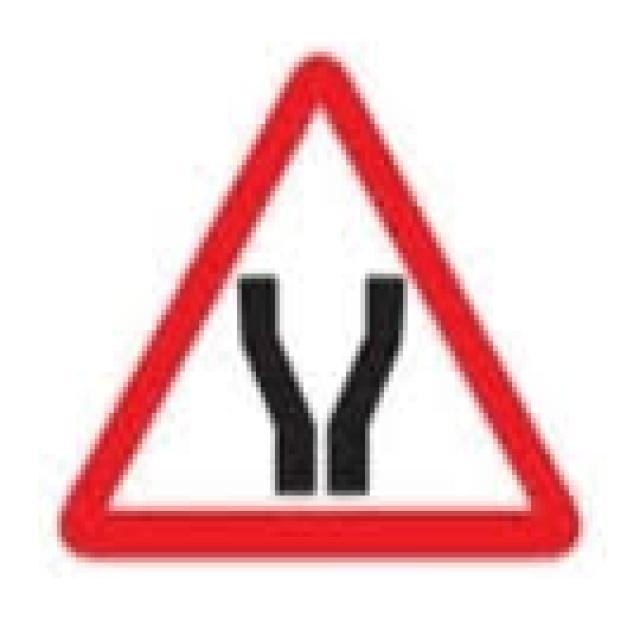road widens ahead: (52, 53, 576, 557)
